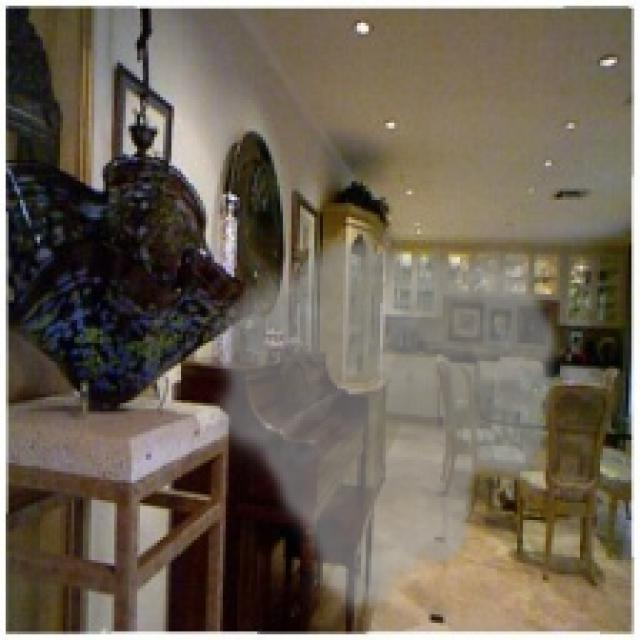Smoke: (203, 231, 566, 623)
